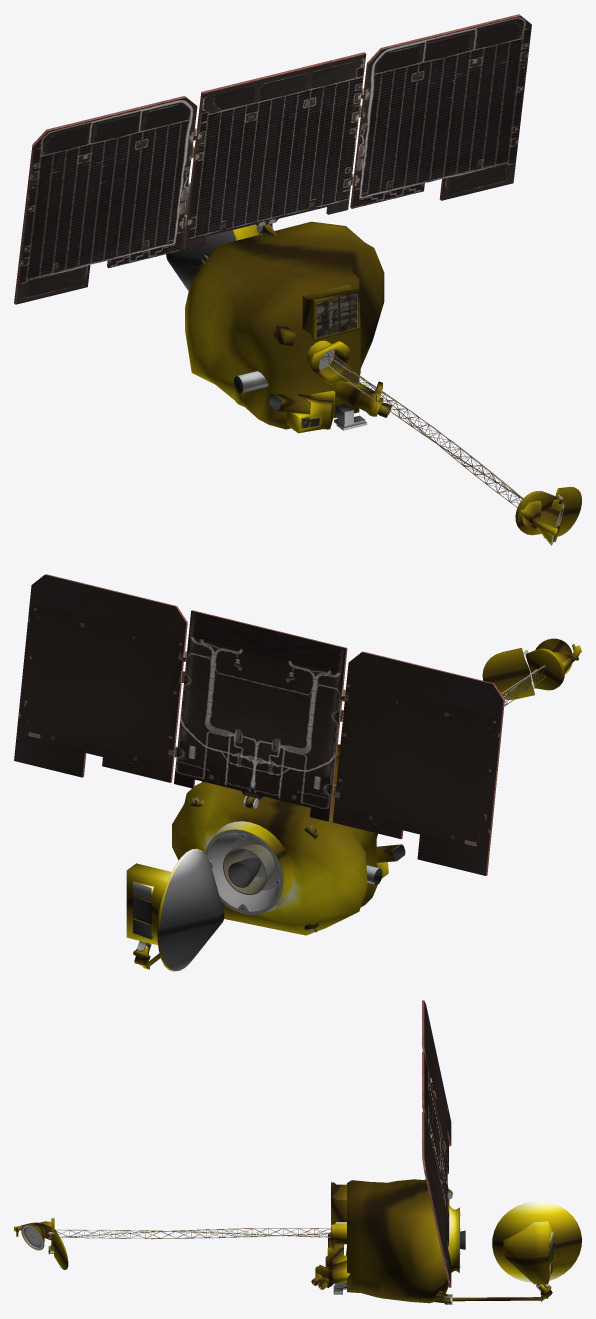
Rendered from mars-odyssey-web.glb.
3 views of the same model, one above another, from view 1: azimuth 30°, elevation 25°; view 2: azimuth 150°, elevation 25°; view 3: azimuth 270°, elevation 25° (orthographic). The views are drawn at different scales.
Parts seen in each view (by area): view 1: shiny_panel, foil_gold, tex_boom, tex_01, foil_silver; view 2: tex_01, shiny_panel, foil_gold, foil_silver, tex_04; view 3: foil_gold, tex_01, shiny_panel, tex_boom.
Part boxes in pixels (x1=…): shiny_panel: x1=14, y1=14, x2=531, y2=369; foil_gold: x1=185, y1=183, x2=581, y2=545; tex_boom: x1=321, y1=351, x2=523, y2=507; tex_01: x1=183, y1=88, x2=562, y2=504; foil_silver: x1=166, y1=184, x2=242, y2=393; tex_01: x1=14, y1=575, x2=535, y2=887; shiny_panel: x1=45, y1=574, x2=504, y2=914; foil_gold: x1=126, y1=638, x2=581, y2=971; foil_silver: x1=133, y1=850, x2=382, y2=970; tex_04: x1=191, y1=798, x2=378, y2=932; foil_gold: x1=14, y1=1179, x2=581, y2=1303; tex_01: x1=48, y1=1001, x2=546, y2=1303; shiny_panel: x1=422, y1=1000, x2=460, y2=1287; tex_boom: x1=56, y1=1228, x2=330, y2=1239.
Size of the model in its own units: 5.67 by 3.36 by 8.22.
9 materials, 9 textured.
